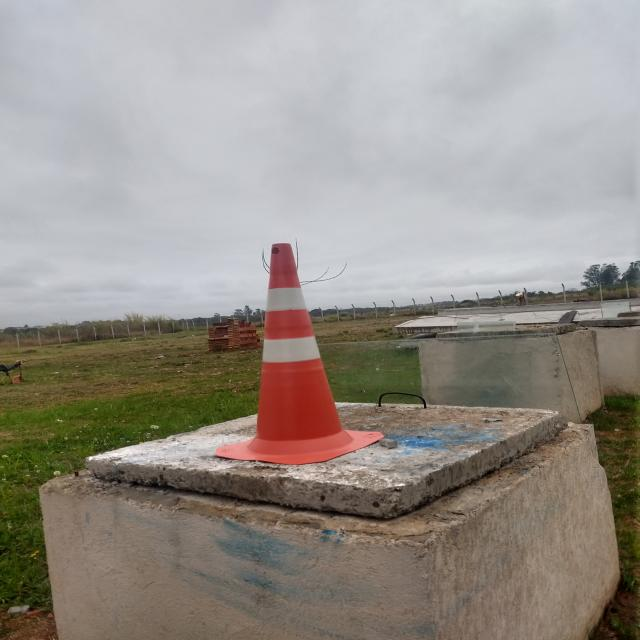cone: (204, 235, 375, 468)
